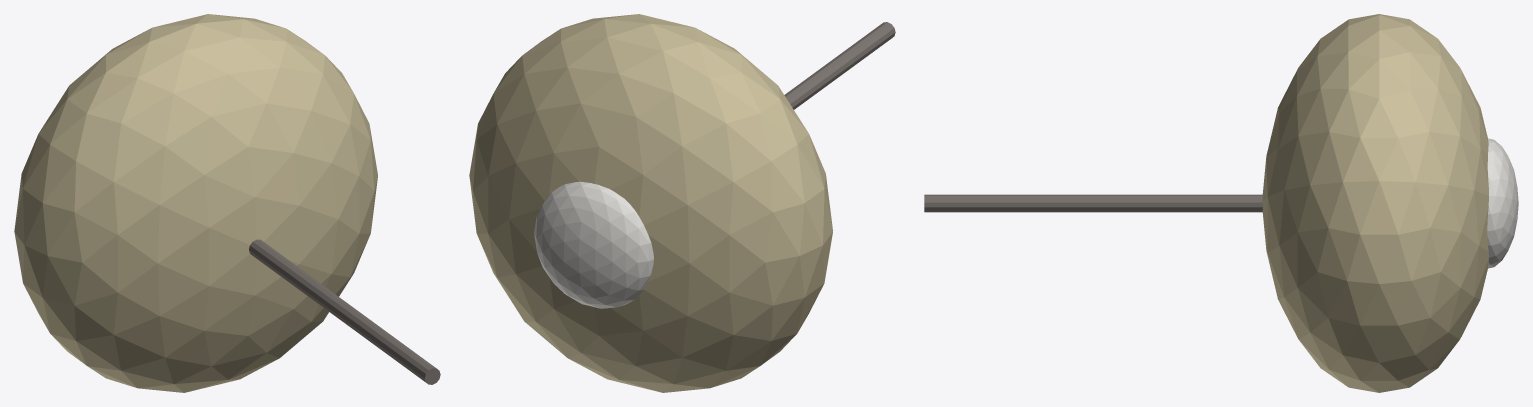
The model's file is pendant_light.glb.
The picture shows the model from 3 angles, left to right: view 1: azimuth 30°, elevation 25°; view 2: azimuth 150°, elevation 25°; view 3: azimuth 270°, elevation 25°; orthographic projection. The views are drawn at different scales.
Visible parts, largest first — view 1: rounded_shade, cable; view 2: rounded_shade, warm_light, cable; view 3: rounded_shade, cable, warm_light.
Part boxes in pixels (bbox=[...]): rounded_shade: bbox=[14, 14, 377, 392]; cable: bbox=[249, 239, 440, 384]; rounded_shade: bbox=[469, 14, 832, 392]; warm_light: bbox=[534, 181, 653, 308]; cable: bbox=[784, 22, 895, 109]; rounded_shade: bbox=[1262, 14, 1488, 392]; cable: bbox=[924, 194, 1262, 212]; warm_light: bbox=[1487, 138, 1518, 268].
Size of the model in its own units: 0.52 by 0.52 by 0.81.
